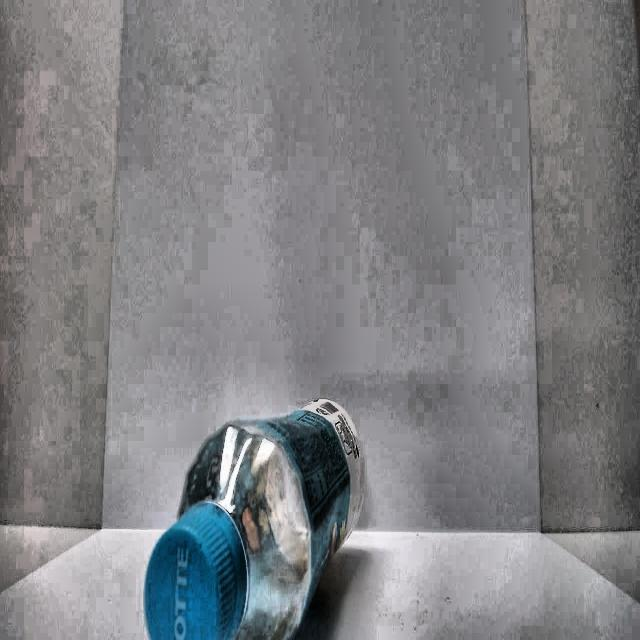Bottles: (91, 322, 424, 640)
